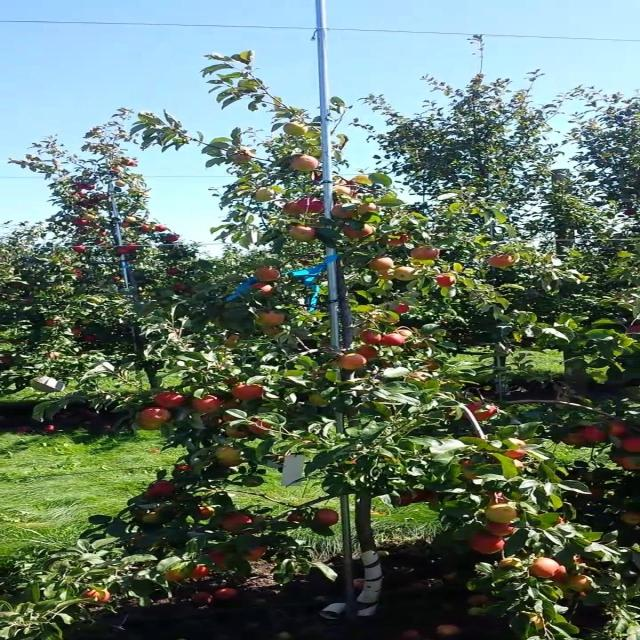apple: (469, 532, 504, 554), (484, 504, 518, 524), (220, 512, 253, 532), (467, 402, 500, 421), (529, 558, 560, 578), (191, 395, 222, 414), (153, 391, 187, 408), (136, 406, 171, 422), (562, 574, 593, 592), (502, 438, 527, 460), (231, 384, 264, 400), (342, 222, 373, 239), (147, 480, 176, 498), (289, 155, 320, 171), (484, 521, 516, 536), (338, 354, 367, 370), (82, 588, 111, 604), (313, 509, 340, 526), (289, 225, 316, 242), (611, 454, 640, 469), (409, 246, 440, 260), (136, 416, 167, 430), (253, 266, 280, 282), (580, 426, 607, 442), (229, 146, 253, 164), (567, 574, 591, 592), (560, 432, 589, 446), (282, 121, 309, 136), (331, 204, 358, 219), (224, 424, 251, 439), (244, 545, 269, 561), (247, 418, 271, 434), (382, 232, 409, 246), (380, 332, 407, 346), (253, 186, 276, 202), (258, 311, 284, 325), (369, 256, 393, 271), (216, 446, 240, 461), (207, 550, 227, 568), (282, 201, 307, 215), (393, 266, 416, 281), (487, 254, 513, 267), (616, 455, 640, 469), (249, 282, 273, 296), (296, 198, 320, 212), (360, 329, 382, 344), (396, 491, 418, 506), (333, 182, 356, 196), (300, 198, 322, 212), (356, 345, 378, 359), (200, 414, 222, 428), (609, 421, 627, 438), (549, 565, 567, 582), (551, 565, 567, 584), (189, 564, 209, 579), (620, 511, 640, 526), (413, 490, 438, 502), (333, 185, 358, 197), (611, 454, 631, 469), (622, 436, 640, 452), (496, 558, 522, 569), (196, 505, 216, 519), (551, 565, 567, 582), (407, 371, 431, 382), (164, 569, 184, 582), (436, 274, 456, 287), (142, 511, 162, 524), (489, 491, 509, 504), (309, 394, 329, 407), (358, 202, 380, 213), (224, 334, 240, 348), (262, 325, 282, 336), (391, 302, 409, 314), (218, 459, 242, 468), (589, 486, 604, 499), (222, 399, 240, 409), (396, 326, 411, 338), (460, 471, 480, 480), (351, 175, 371, 184), (287, 512, 304, 522), (423, 361, 440, 371), (376, 269, 393, 279), (222, 376, 240, 385), (409, 341, 429, 349), (627, 321, 640, 333), (80, 334, 98, 342), (176, 464, 191, 472), (460, 459, 473, 468), (222, 414, 238, 421), (71, 326, 82, 336), (380, 360, 393, 368), (313, 170, 322, 181), (556, 518, 567, 524)
